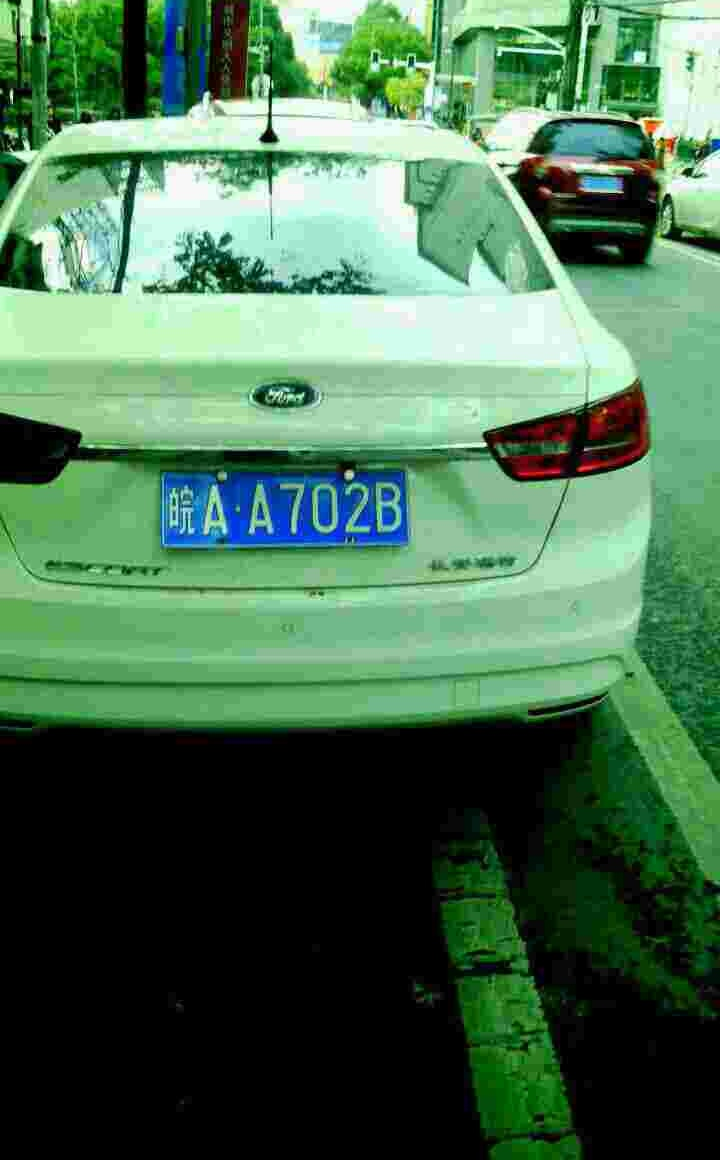plate: (163, 466, 416, 551)
